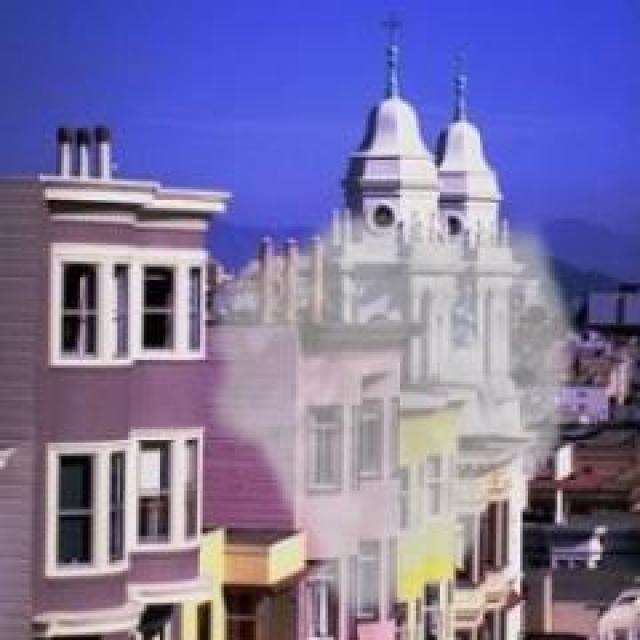Smoke: (200, 210, 582, 613)
